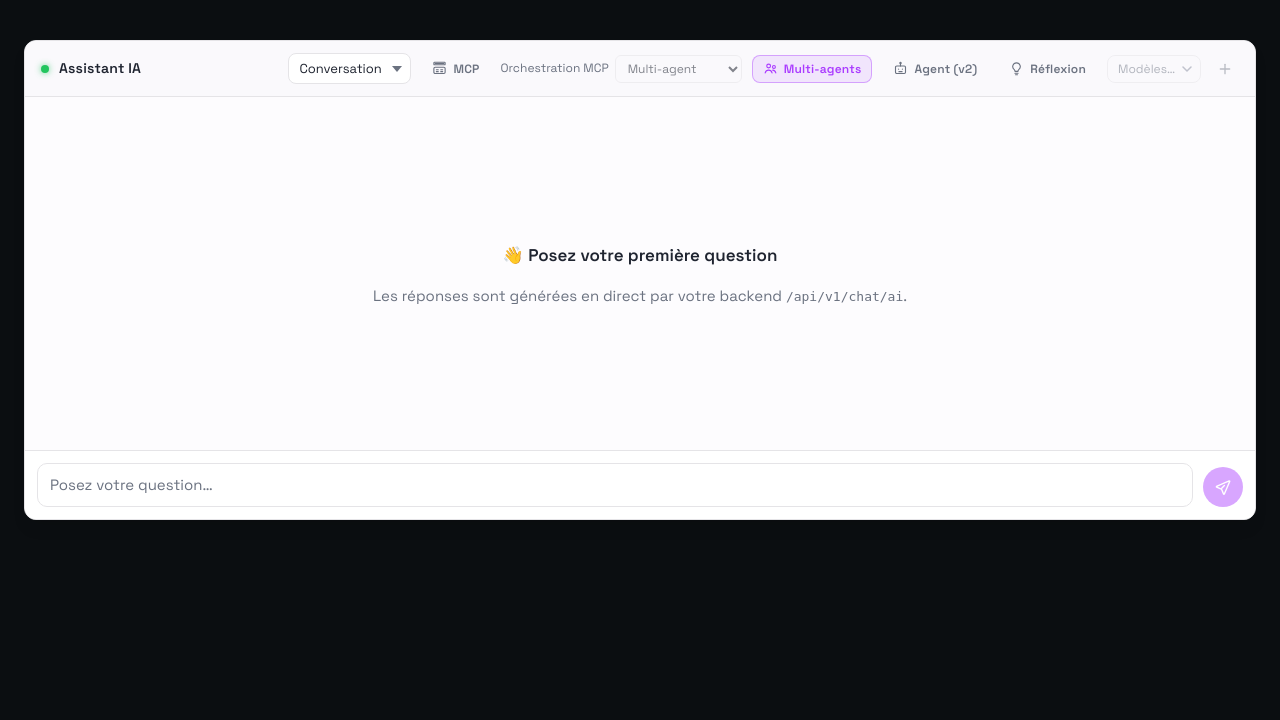
Test: ChatWindow - sélecteur d’orchestration MCP › ChatWindow - réponse finale multi-agents › affiche le résumé worker si le flux se termine sans agent.done
Step 1. Type "Info GPU" into the text box named "Votre message" → (615, 485), box [37,463,1193,507]
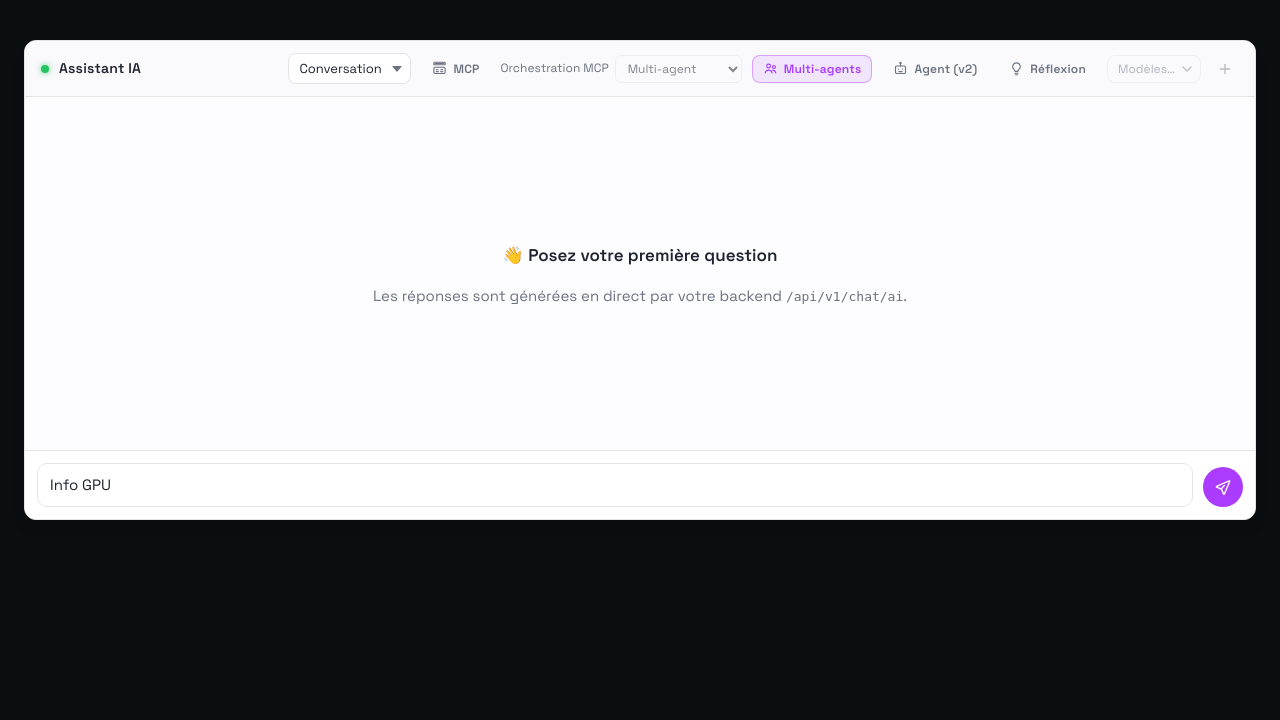
Step 2. Click the button named "Envoyer" → (1223, 487), box [1203,467,1243,507]
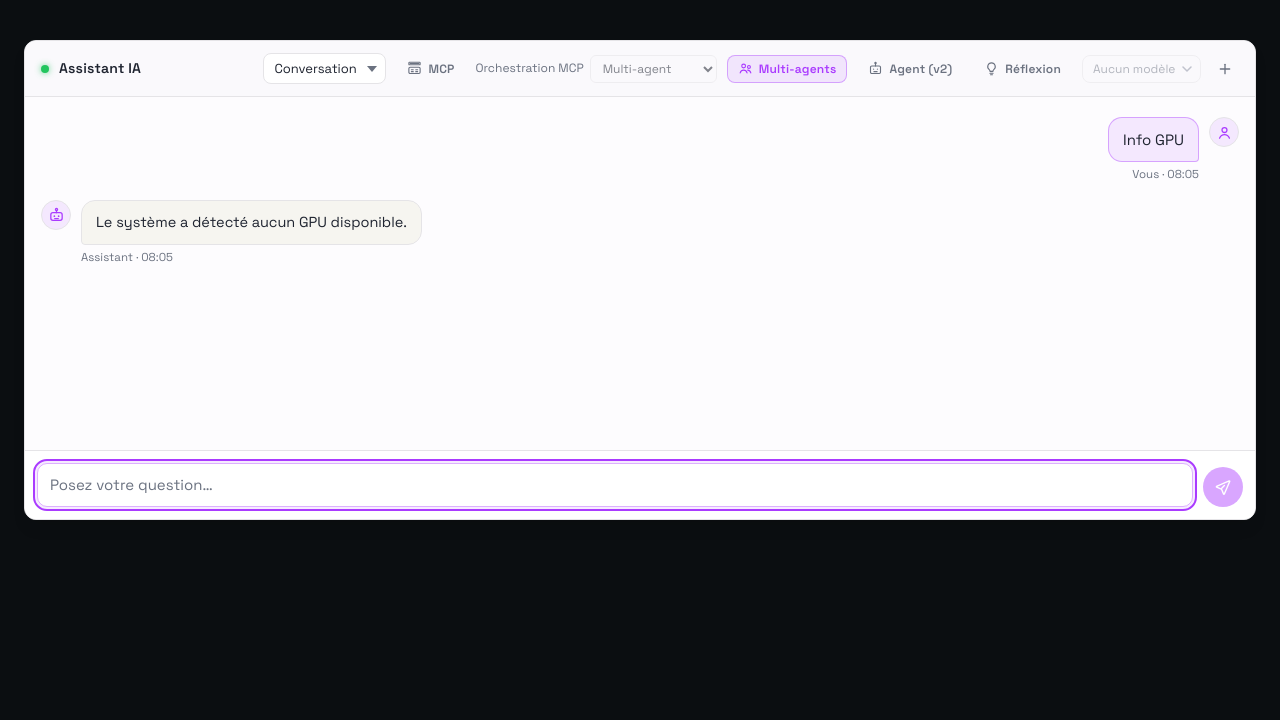
Now the text "Le système a détecté aucun GPU disponible." is shown, box [96,211,407,234]
